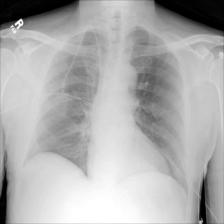normal: (26, 23, 191, 199)
